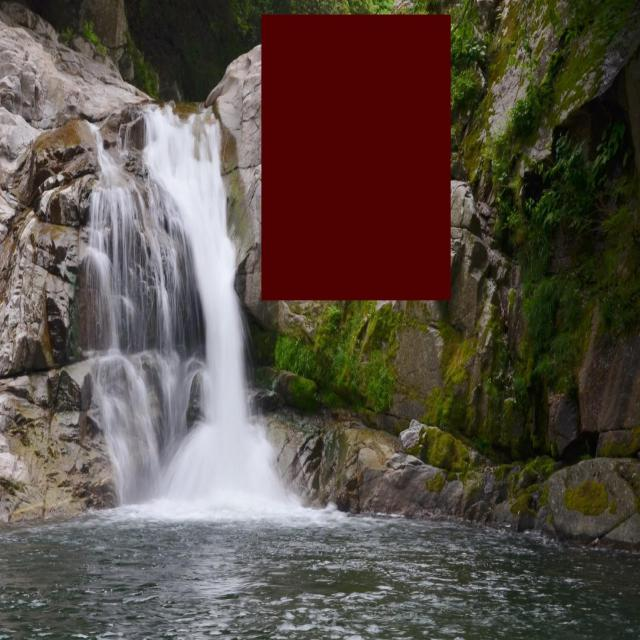RedSquare: (258, 8, 455, 308)
